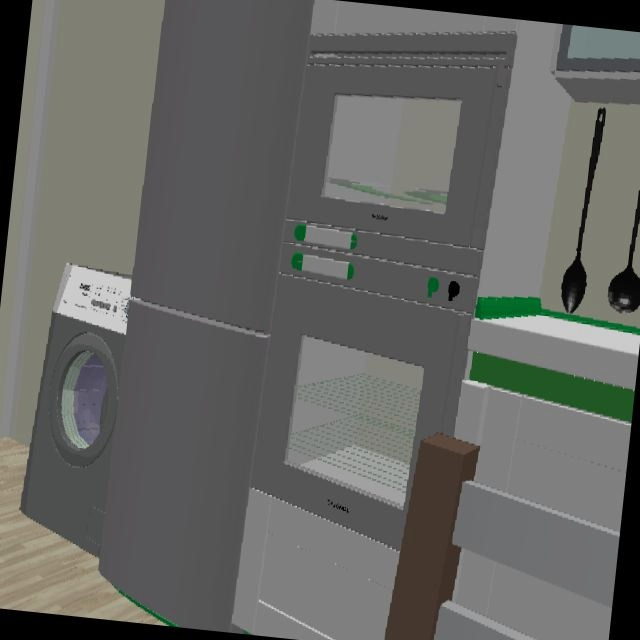chair: (386, 433, 618, 640)
countertop: (468, 298, 640, 422)
fridge: (99, 0, 313, 630)
microwave: (286, 32, 514, 275)
oven: (251, 242, 477, 548)
